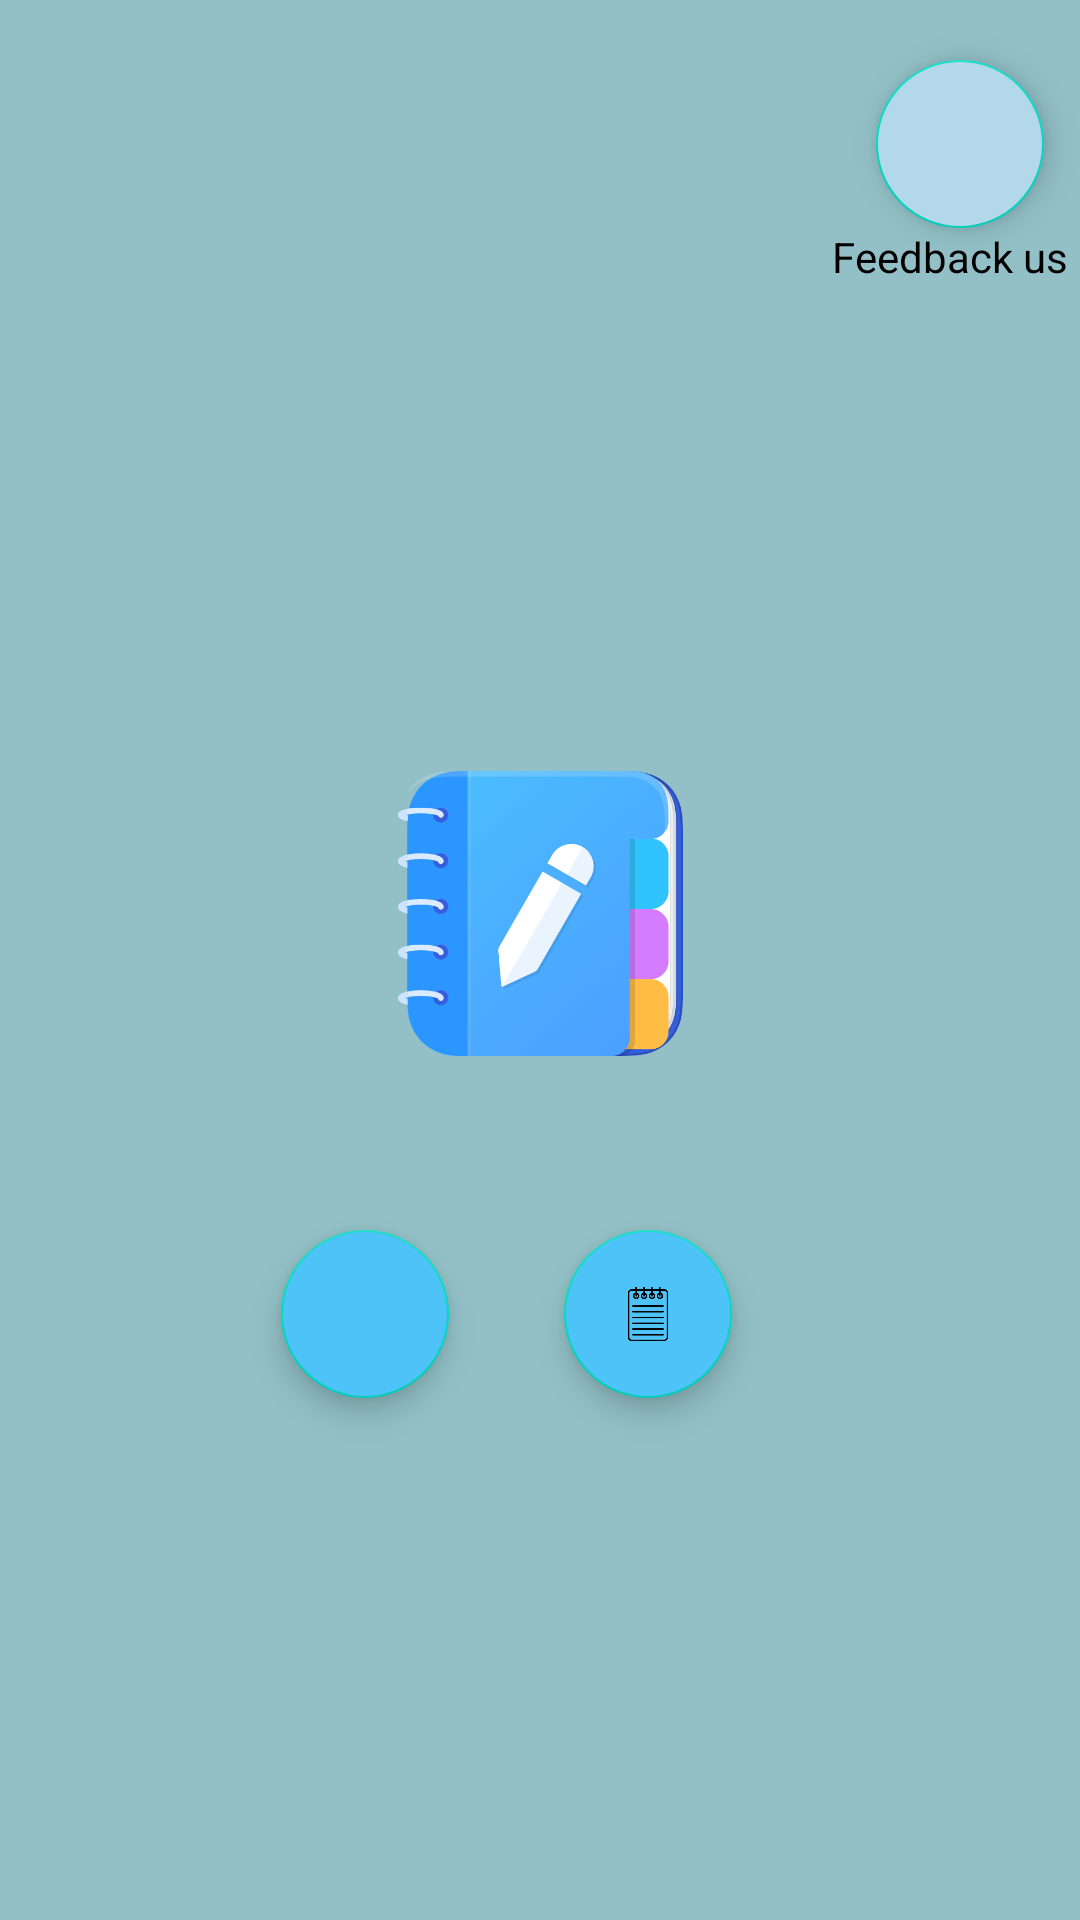

Icons on this 1080 × 1920 Android screen, each with the point to tap as [x,y]:
notes: [540,913], [648,1314]
